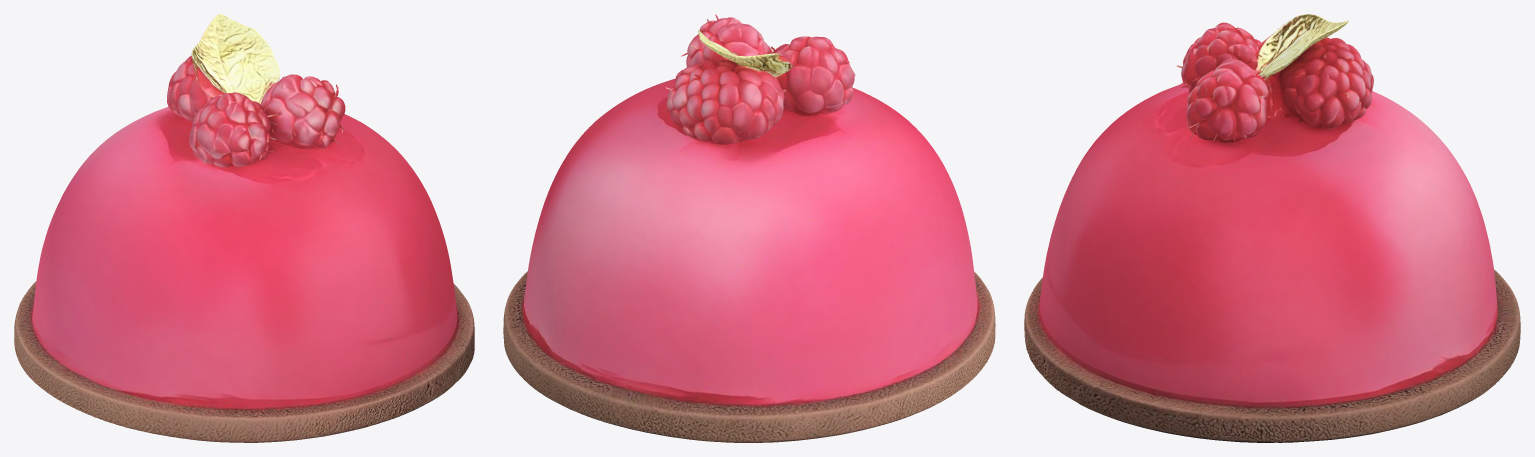
The model's file is malina.glb.
The picture shows the model from 3 angles, left to right: view 1: azimuth 30°, elevation 25°; view 2: azimuth 150°, elevation 25°; view 3: azimuth 270°, elevation 25°; orthographic projection. The views are drawn at different scales.
Visible parts, largest first — view 1: model; view 2: model; view 3: model.
Part boxes in pixels (bbox=[...]): model: bbox=[14, 14, 474, 442]; model: bbox=[503, 14, 995, 442]; model: bbox=[1024, 14, 1520, 442].
Bounding box in the file's own units: 1.88 × 1.39 × 1.9.
1 material, 1 textured.
